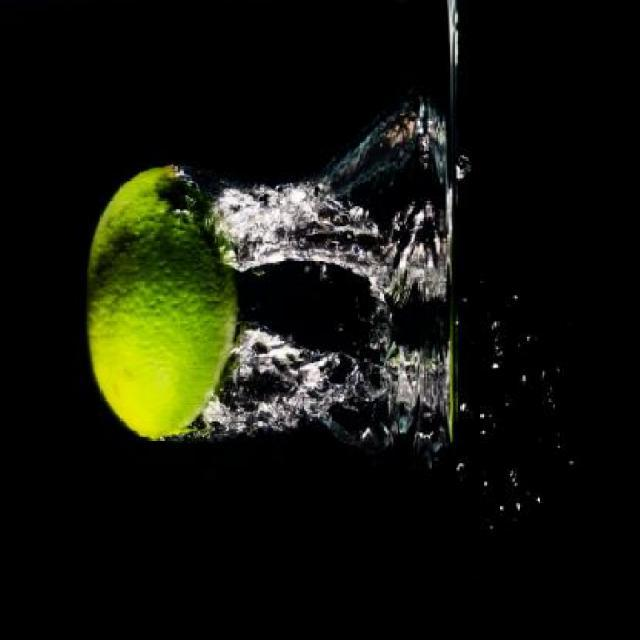Lemon: (84, 165, 238, 438)
